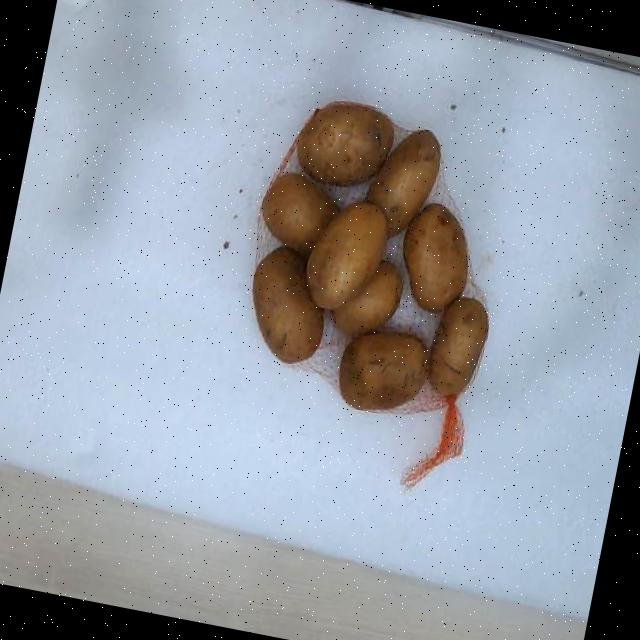potato: (305, 201, 386, 308), (252, 247, 322, 363), (298, 103, 392, 186), (366, 130, 439, 236), (402, 203, 467, 312), (338, 333, 428, 410), (262, 173, 339, 256), (428, 297, 488, 395), (332, 261, 401, 333)
